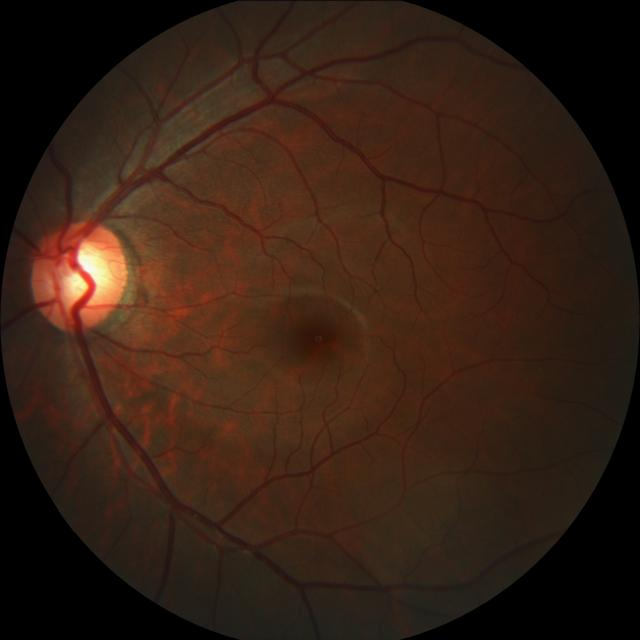OC: (49, 240, 112, 308)
OD: (34, 220, 130, 330)
